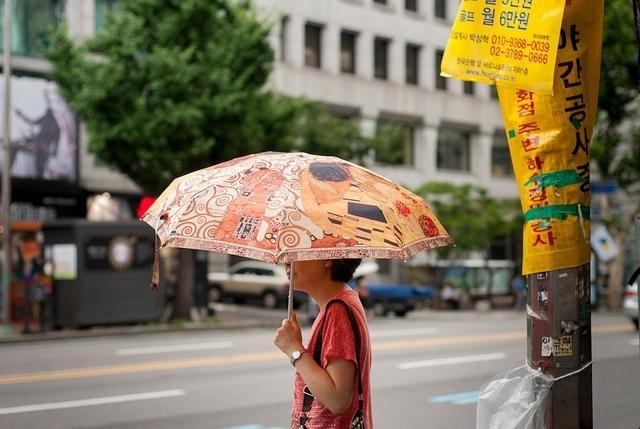car: (208, 260, 290, 310), (366, 286, 438, 318), (624, 266, 640, 330)
truck: (348, 274, 436, 316)
